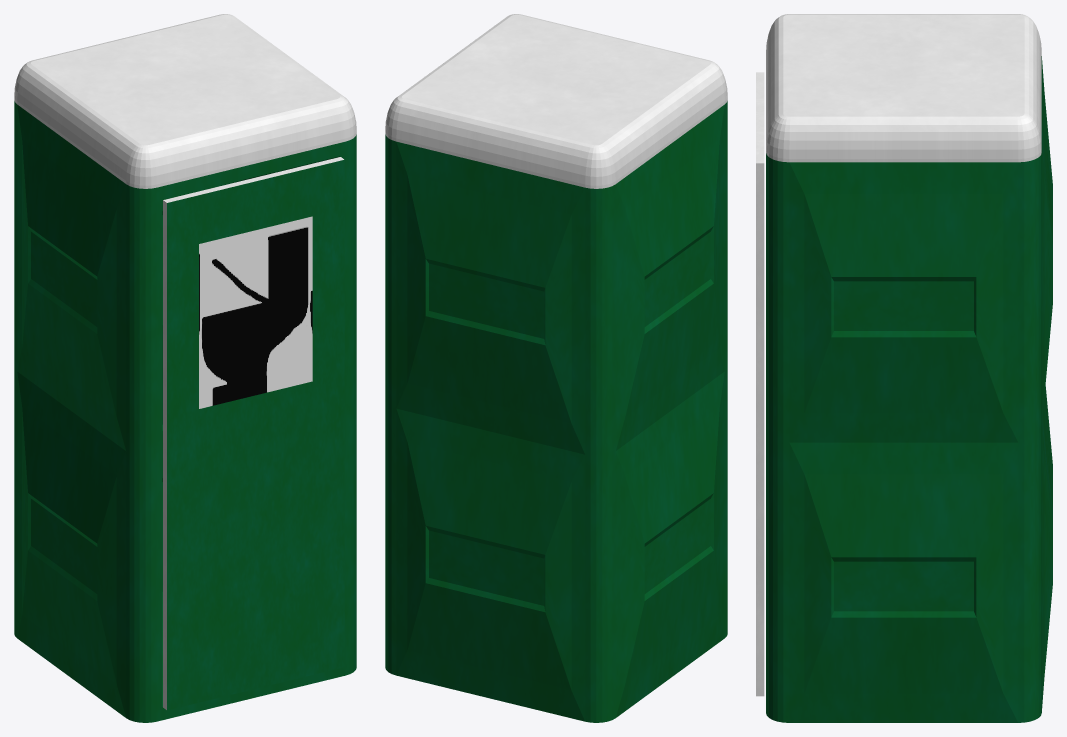
Rendered from portapotty2.fbx.
3 views of the same model, side by side, from view 1: azimuth 30°, elevation 25°; view 2: azimuth 150°, elevation 25°; view 3: azimuth 270°, elevation 25° (orthographic). The views are drawn at different scales.
Parts seen in each view (by area): view 1: Portapotty, Door; view 2: Portapotty; view 3: Portapotty, Door.
Boxes of the visible parts, x1,y1,x2,y2 form: Portapotty: [14, 14, 356, 722]; Door: [163, 157, 344, 710]; Portapotty: [385, 14, 727, 722]; Portapotty: [766, 14, 1052, 722]; Door: [756, 72, 764, 696].
Size of the model in its own units: 96.3 by 214 by 95.92.
